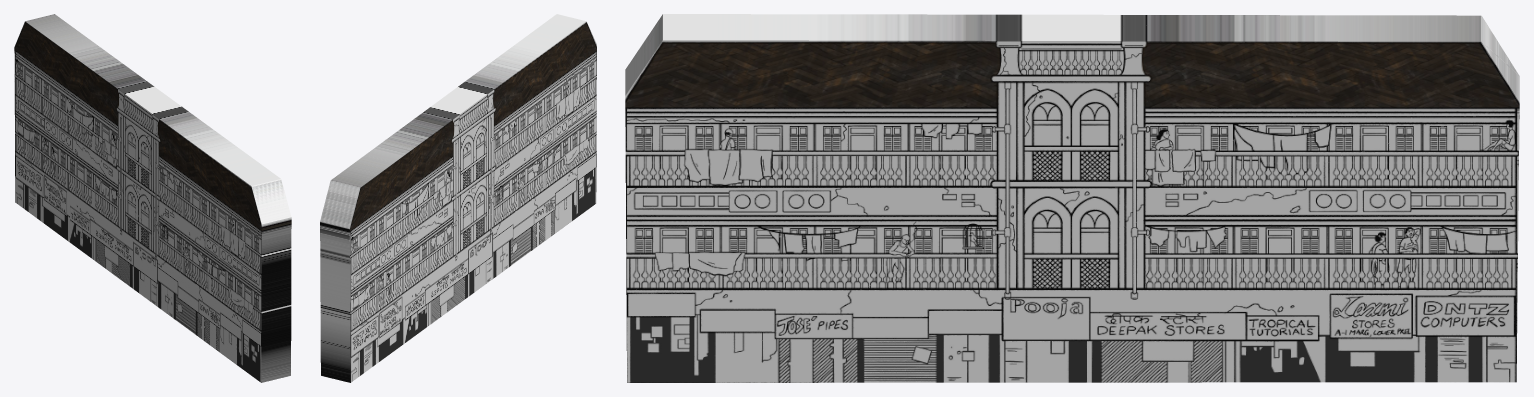
The model's file is newchail.obj.
The picture shows the model from 3 angles, left to right: view 1: azimuth 30°, elevation 25°; view 2: azimuth 150°, elevation 25°; view 3: azimuth 270°, elevation 25°; orthographic projection. The views are drawn at different scales.
Parts seen in each view (by area): view 1: WhatsApp_Image_2024-10-09_at_1.08.50_AM; view 2: WhatsApp_Image_2024-10-09_at_1.08.50_AM; view 3: WhatsApp_Image_2024-10-09_at_1.08.50_AM.
Boxes of the visible parts, x1=… form: WhatsApp_Image_2024-10-09_at_1.08.50_AM: x1=14, y1=14, x2=291, y2=382; WhatsApp_Image_2024-10-09_at_1.08.50_AM: x1=320, y1=14, x2=596, y2=382; WhatsApp_Image_2024-10-09_at_1.08.50_AM: x1=625, y1=14, x2=1519, y2=382.
Size of the model in its own units: 0.7455 by 4.54 by 10.74.
1 material, 1 textured.
